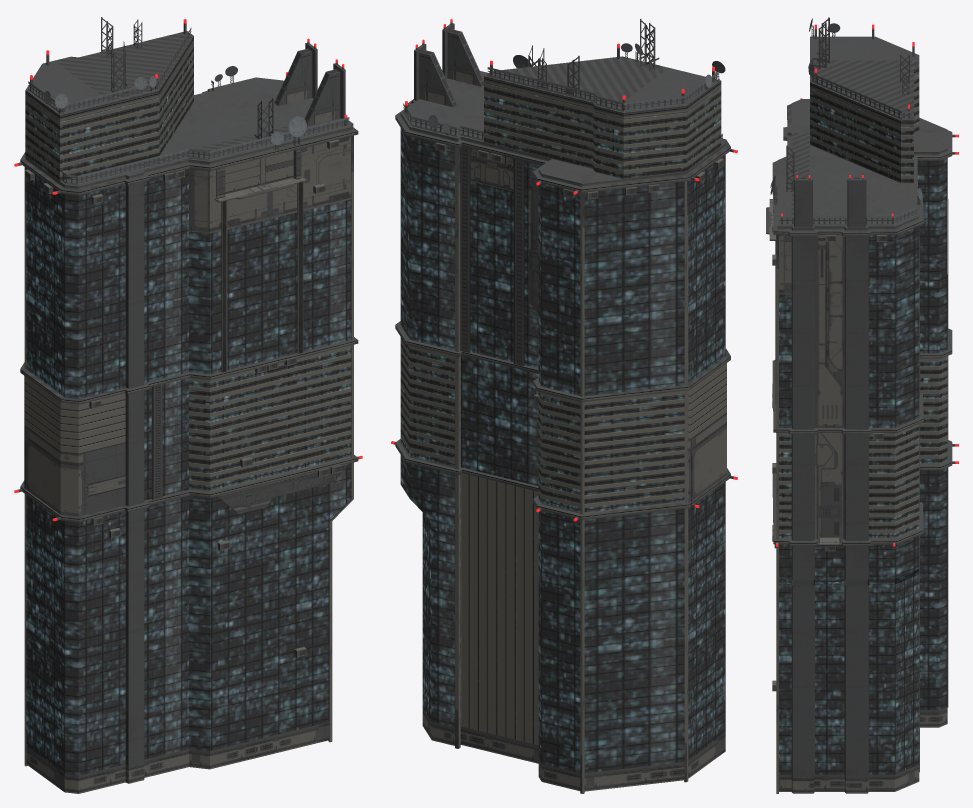
The model's file is Skyscraper_01.gltf.
3 renders of one model, left to right at view 1: azimuth 30°, elevation 25°; view 2: azimuth 150°, elevation 25°; view 3: azimuth 270°, elevation 25°, orthographic. The views are drawn at different scales.
Visible parts, largest first — view 1: Skyscraper_01; view 2: Skyscraper_01; view 3: Skyscraper_01.
Boxes of the visible parts, bbox=[...] form: Skyscraper_01: bbox=[14, 17, 362, 793]; Skyscraper_01: bbox=[391, 19, 737, 793]; Skyscraper_01: bbox=[766, 17, 958, 793].
Bounding box in the file's own units: 40.49 × 92.93 × 23.63.
2 materials, 2 textured.
